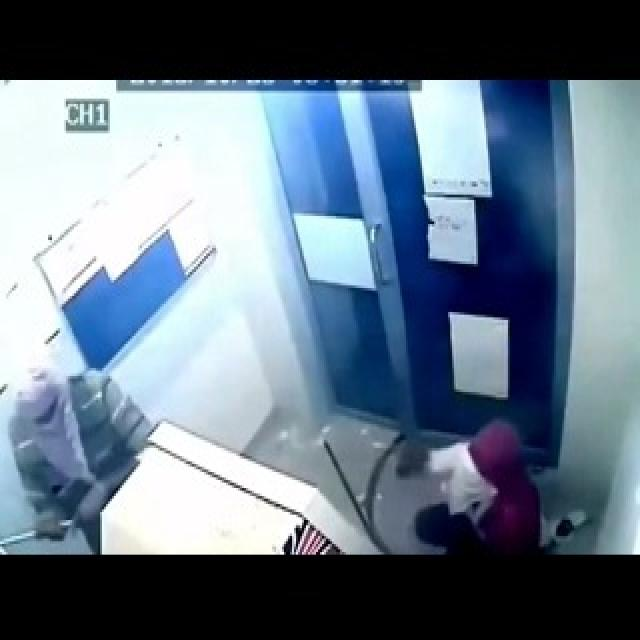thief: (2, 337, 150, 557), (414, 423, 564, 546)
